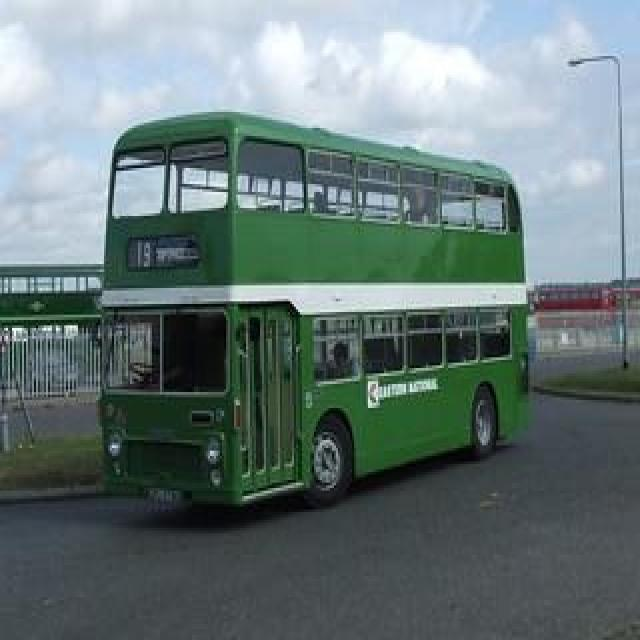Bus: (55, 58, 563, 532)
